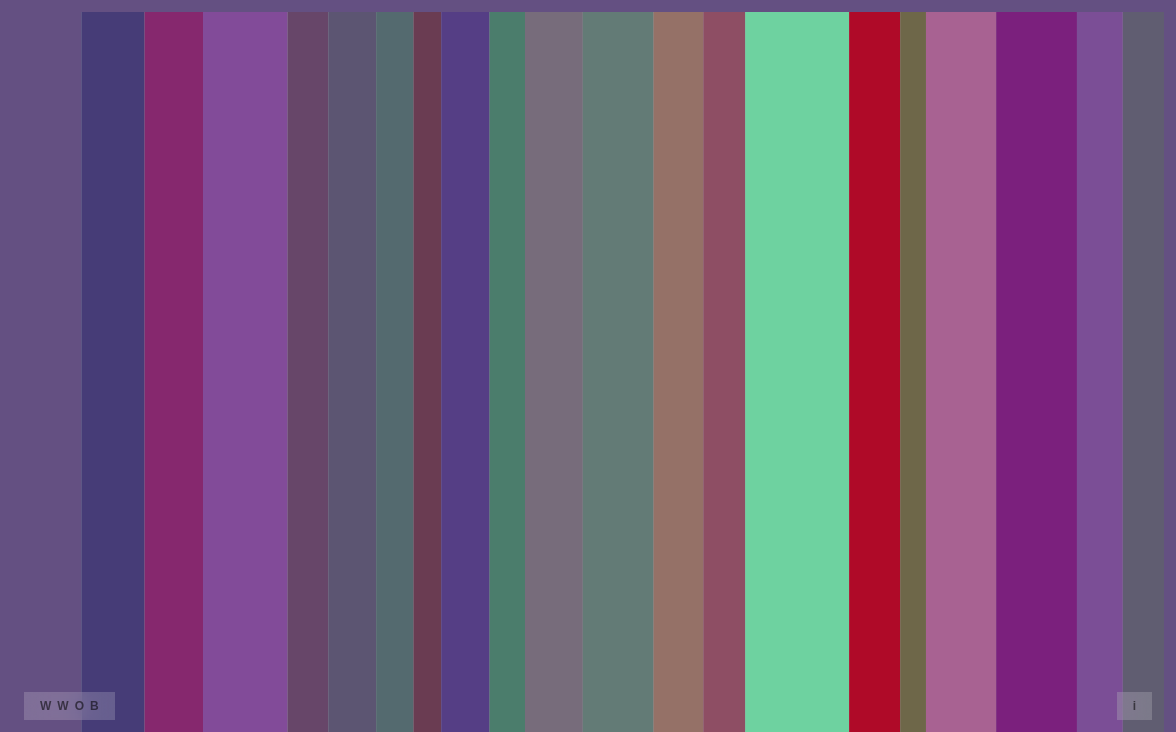
Test case: reader app › shows a run that spans dark days as one run
This screenshot has width=1176, height=732.
Click the button "i".
click(1134, 706)  # box 1117,692 -> 1152,720
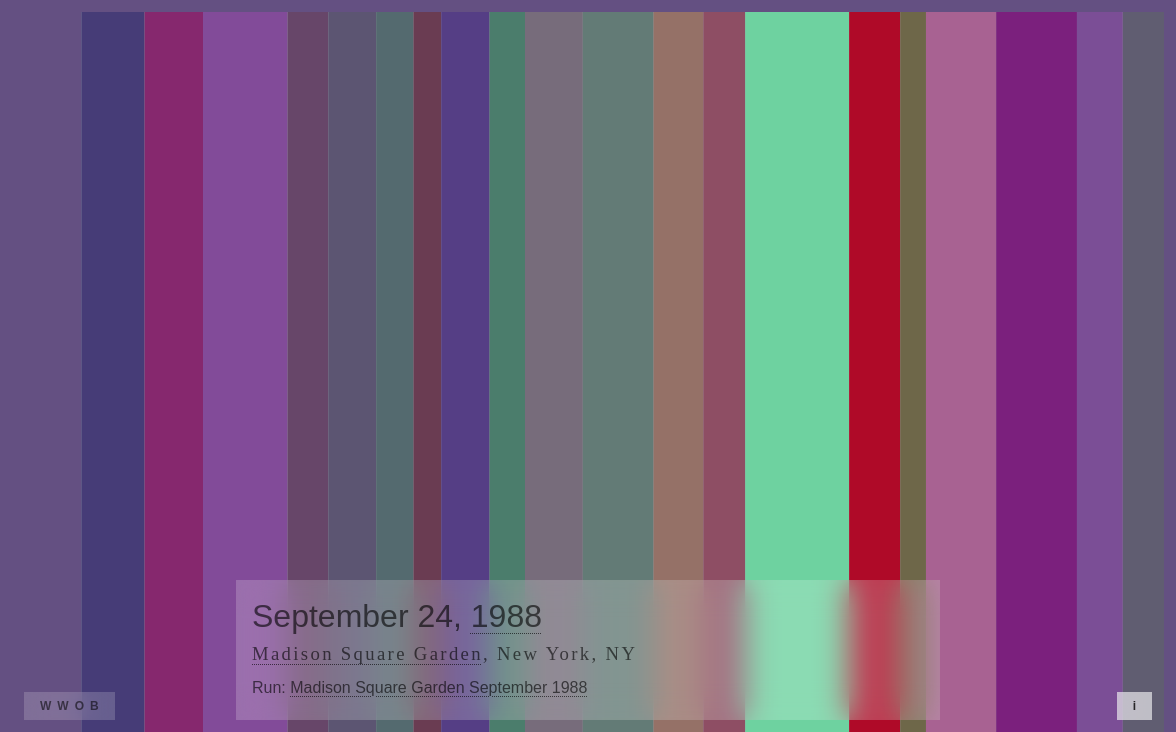
Now the link "Madison Square Garden September 1988" is shown, box 290,679 -> 587,696
